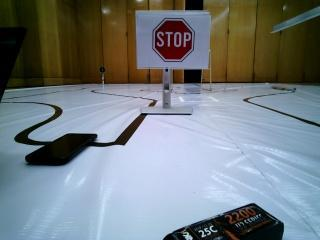stop: (135, 9, 205, 66)
